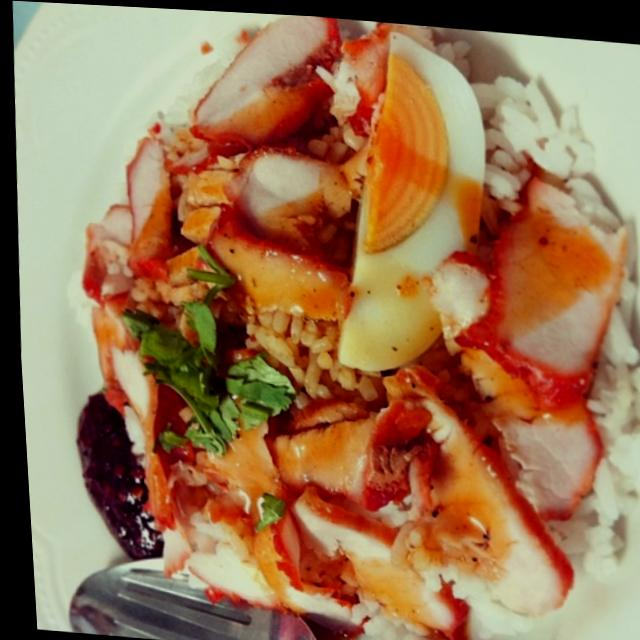猪肉菜式: (31, 16, 640, 640)
